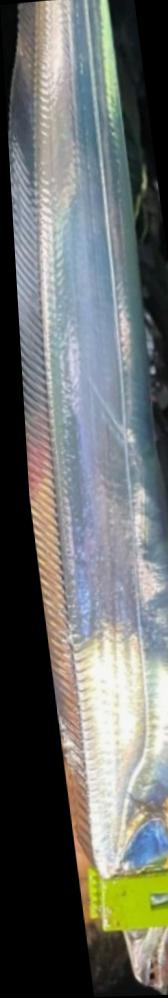fish: (6, 0, 168, 995)
